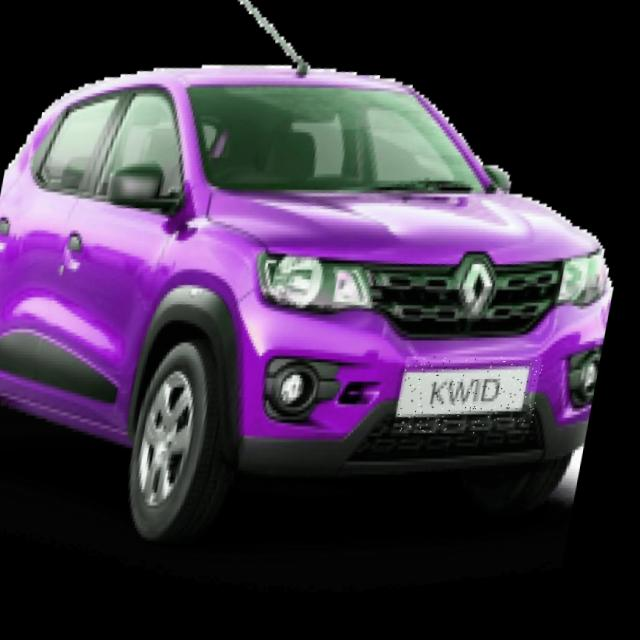license_plate: (398, 355, 551, 460)
